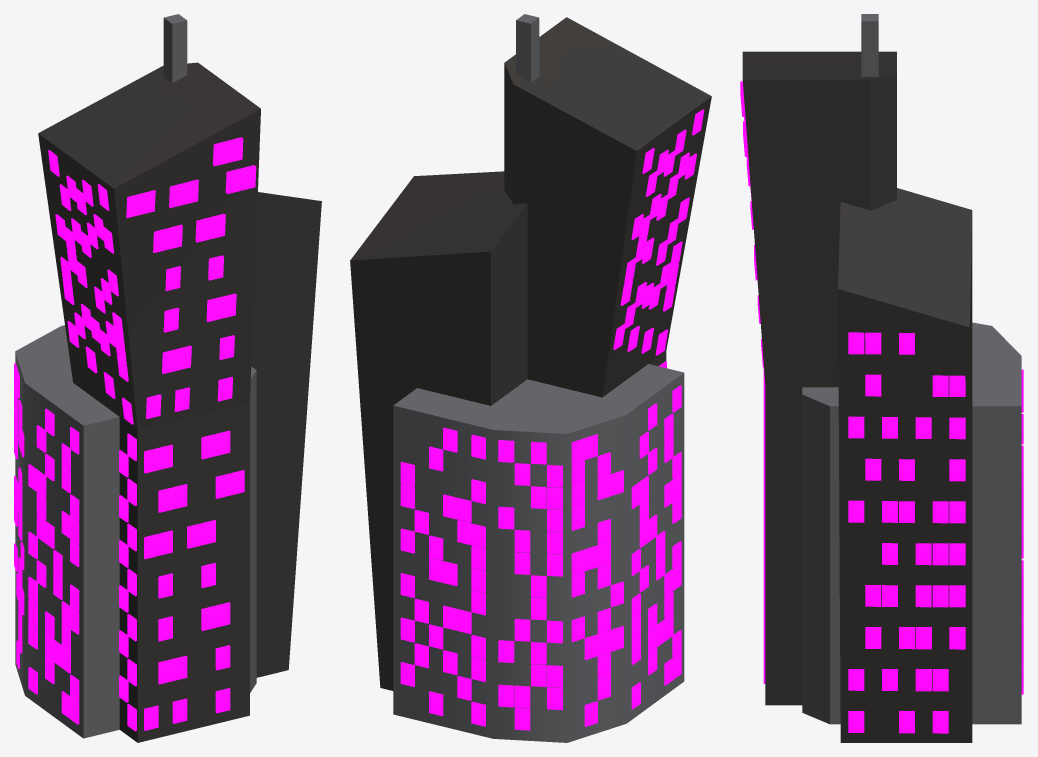
The model's file is Skyscraper.fbx.
3 renders of one model, left to right at view 1: azimuth 30°, elevation 25°; view 2: azimuth 150°, elevation 25°; view 3: azimuth 270°, elevation 25°, orthographic. The views are drawn at different scales.
Parts seen in each view (by area): view 1: Cube.008; view 2: Cube.008; view 3: Cube.008.
Part boxes in pixels (<box>): Cube.008: <box>14,14,321,742</box>; Cube.008: <box>350,14,711,742</box>; Cube.008: <box>740,14,1023,742</box>.
Size of the model in its own units: 3449 by 8500 by 3226.
